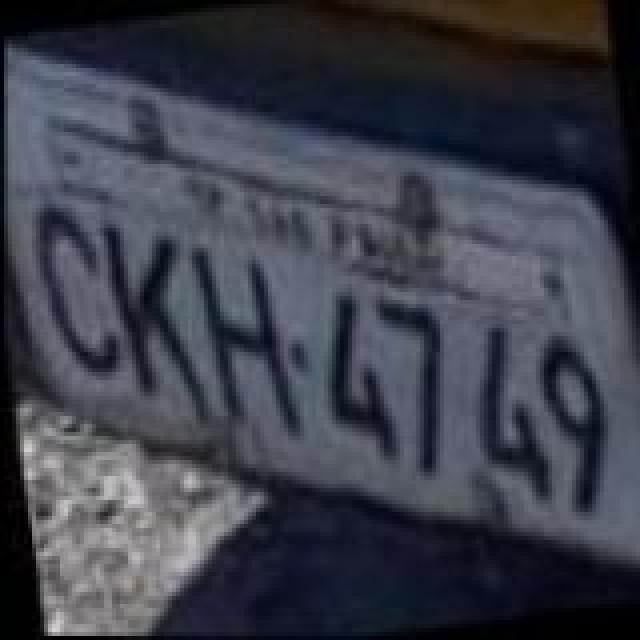4: (454, 320, 558, 516), (304, 286, 404, 478)
7: (368, 288, 468, 480)
9: (526, 332, 626, 524)
C: (22, 196, 130, 388)
H: (182, 232, 306, 448)
K: (96, 212, 216, 424)
